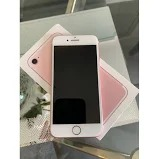iphone: (49, 34, 101, 139)
iphone7: (49, 34, 101, 139)
